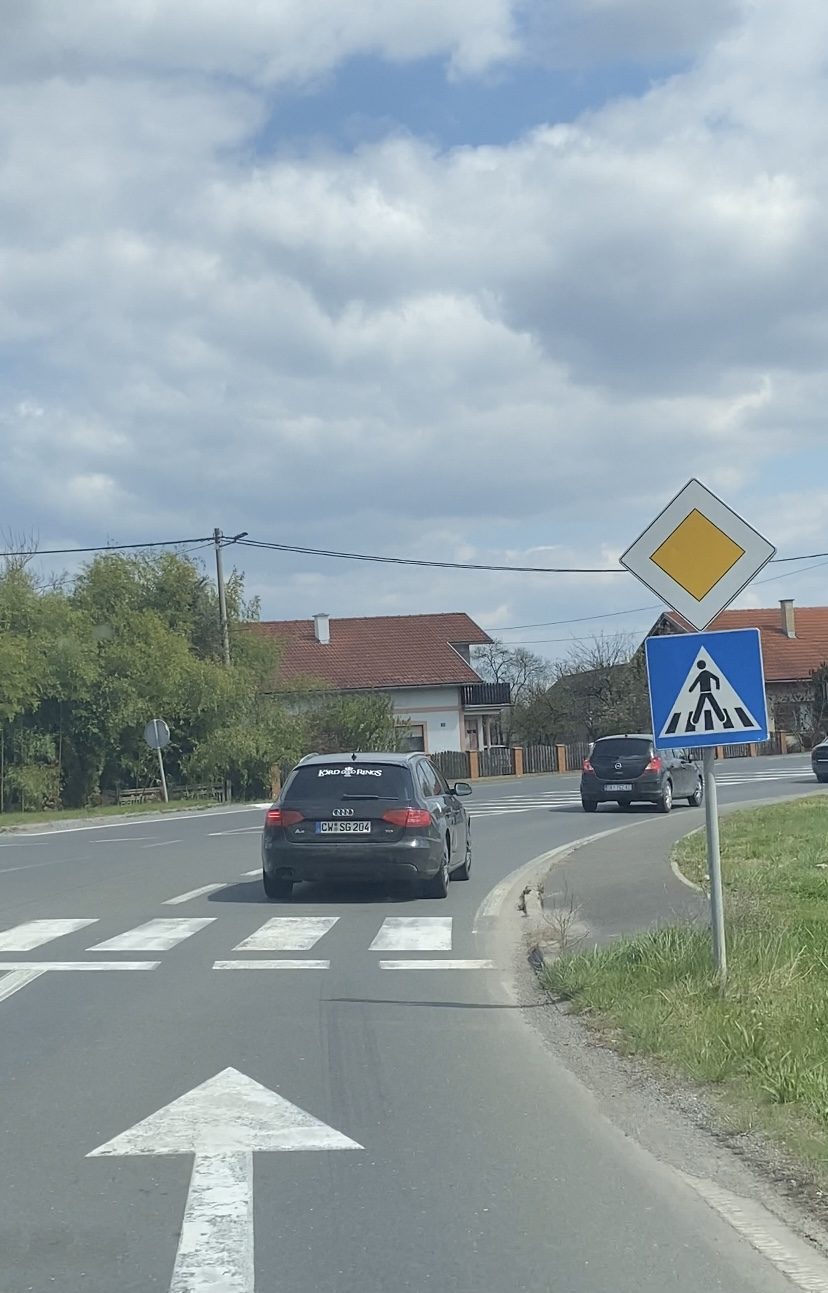Cesta s prednošću prolaska: (618, 478, 777, 633)
Pješački prijelaz: (643, 628, 770, 749)
